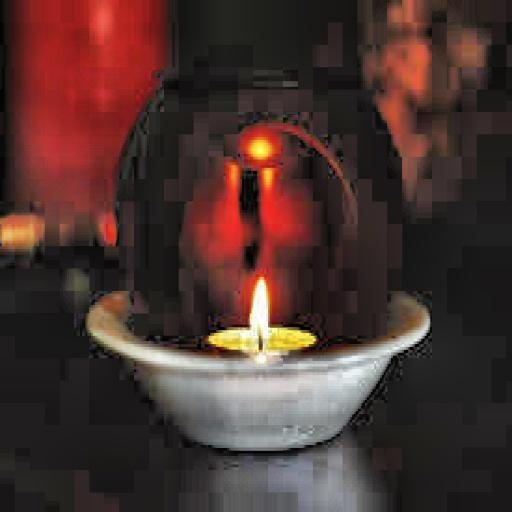fire: (244, 263, 274, 347)
